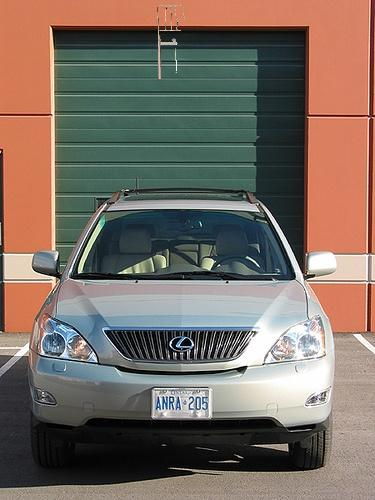tampered: (158, 6, 185, 80)
